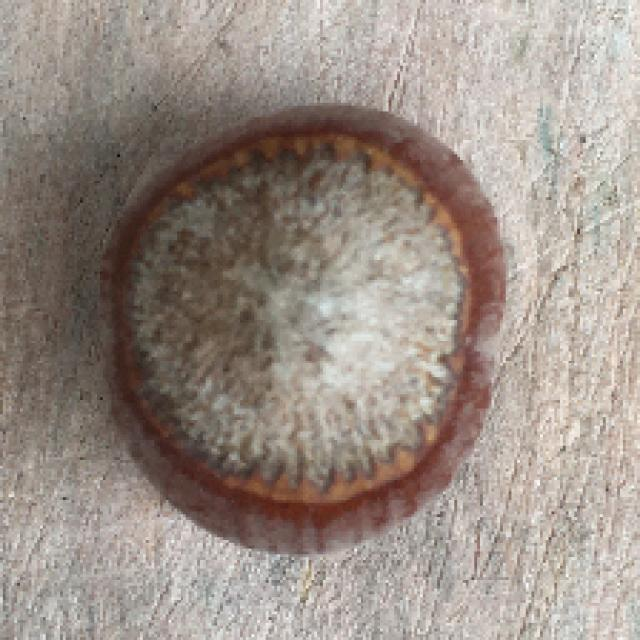qualityHazelnut: (84, 97, 519, 563)
